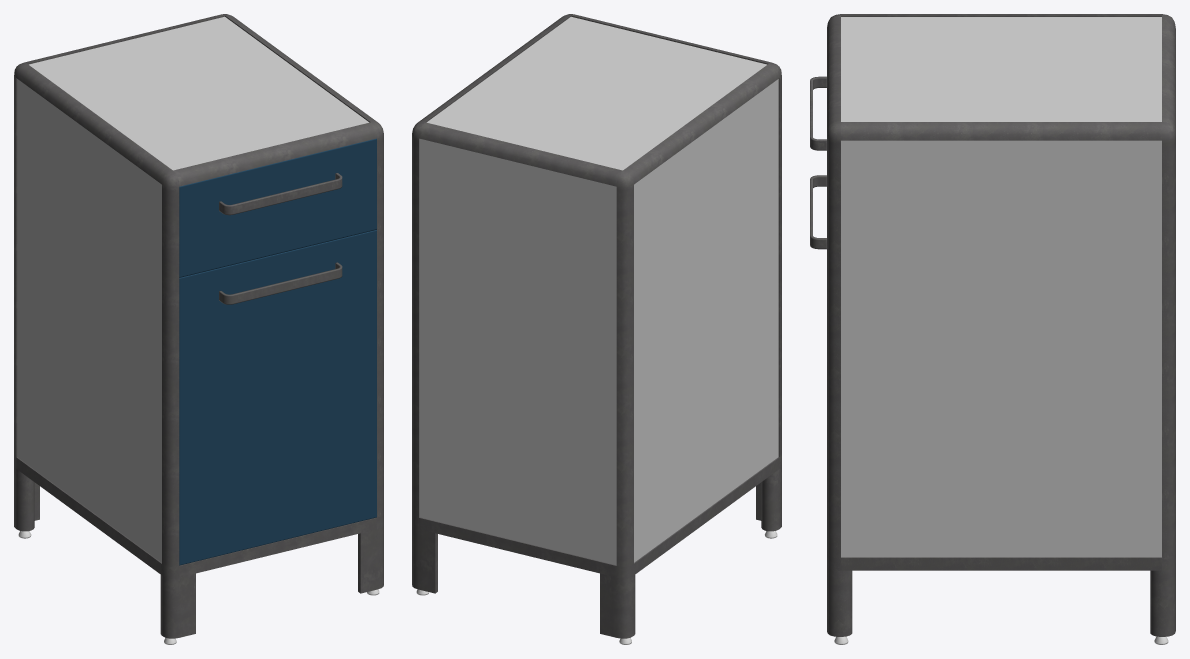
The model's file is hospital-drawer.glb.
The picture shows the model from 3 angles, left to right: view 1: azimuth 30°, elevation 25°; view 2: azimuth 150°, elevation 25°; view 3: azimuth 270°, elevation 25°; orthographic projection. The views are drawn at different scales.
Visible parts, largest first — view 1: DM01_Stand; view 2: DM01_Stand; view 3: DM01_Stand.
Part boxes in pixels (bbox=[...]): DM01_Stand: bbox=[14, 14, 383, 644]; DM01_Stand: bbox=[412, 14, 781, 644]; DM01_Stand: bbox=[810, 14, 1175, 644].
Size of the model in its own units: 0.52 by 1.07 by 0.6813.
Materials: 4 (3 with a texture image).
